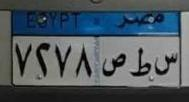2: (36, 40, 51, 78)
7: (14, 41, 33, 80), (54, 43, 72, 82)
8: (74, 44, 93, 79)
Taa: (129, 43, 152, 80)
saad: (101, 51, 127, 80)
seen: (153, 50, 178, 79)
